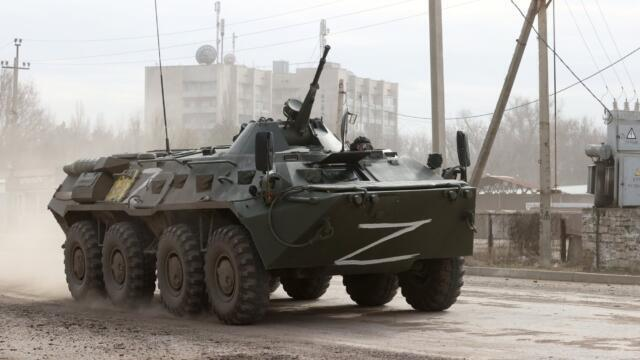tank: (41, 45, 485, 323)
